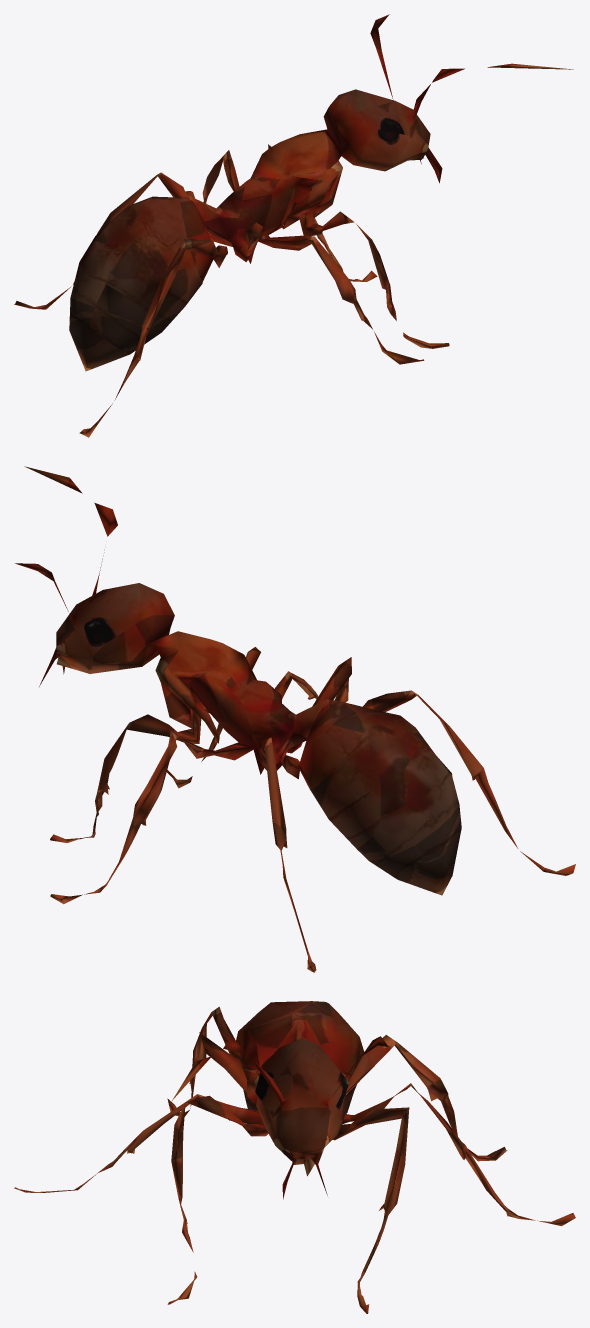
The model's file is swarm.glb.
3 renders of one model, top to bottom at view 1: azimuth 30°, elevation 25°; view 2: azimuth 150°, elevation 25°; view 3: azimuth 270°, elevation 25°, orthographic. The views are drawn at different scales.
Visible parts, largest first — view 1: node_a02923fe-255e-4d86-a709-2e120b1daf05; view 2: node_a02923fe-255e-4d86-a709-2e120b1daf05; view 3: node_a02923fe-255e-4d86-a709-2e120b1daf05.
Part boxes in pixels (left/top/right/bottom): node_a02923fe-255e-4d86-a709-2e120b1daf05: left=14, top=14, right=573, bottom=437; node_a02923fe-255e-4d86-a709-2e120b1daf05: left=15, top=466, right=575, bottom=972; node_a02923fe-255e-4d86-a709-2e120b1daf05: left=14, top=1001, right=575, bottom=1313.
Size of the model in its own units: 0.2728 by 0.1368 by 0.2399.
Materials: 1 (1 with a texture image).
